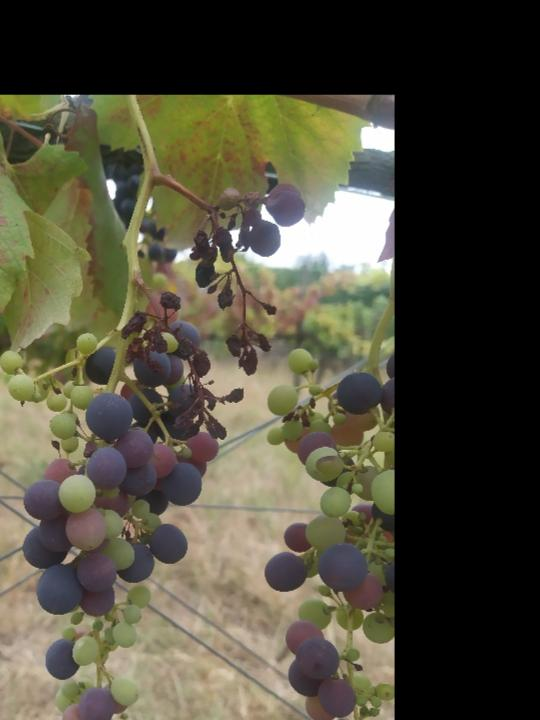grape: (0, 293, 245, 720), (182, 180, 305, 379)
